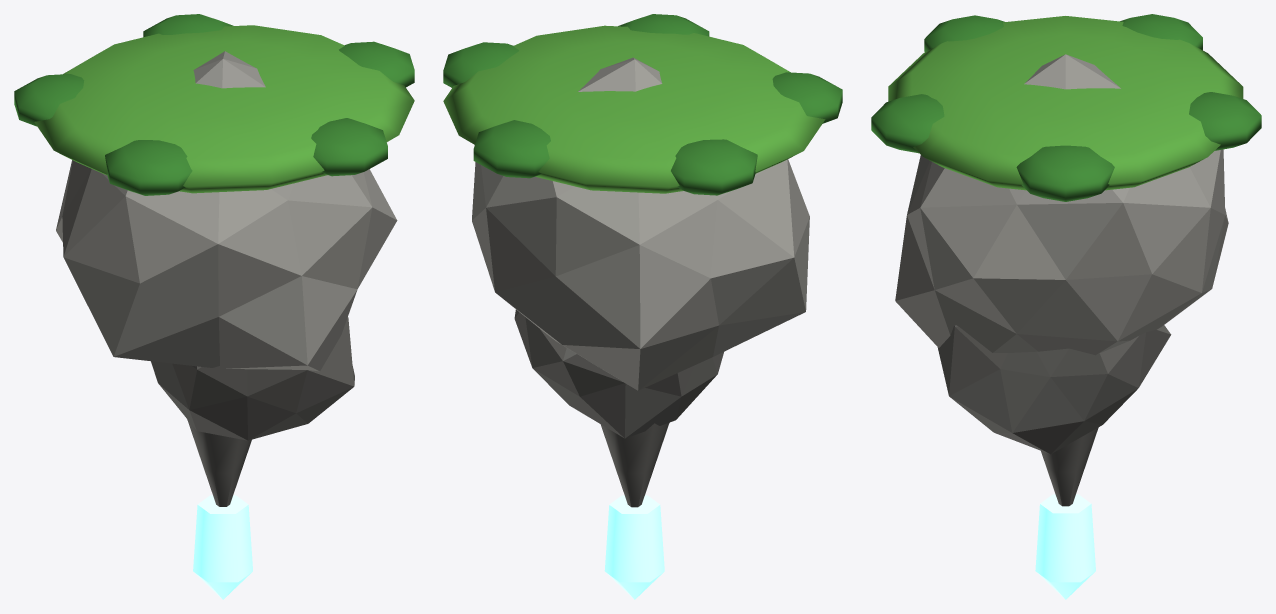
Rendered from FloatingRock.glb.
3 views of the same model, side by side, from view 1: azimuth 30°, elevation 25°; view 2: azimuth 150°, elevation 25°; view 3: azimuth 270°, elevation 25° (orthographic).
Parts seen in each view (by area): view 1: HoverRock, HoverGlow; view 2: HoverRock, HoverGlow; view 3: HoverRock, HoverGlow.
Boxes of the visible parts, <box> form: HoverRock: <box>14,14,414,506</box>; HoverGlow: <box>193,495,252,599</box>; HoverRock: <box>443,14,842,507</box>; HoverGlow: <box>604,495,664,599</box>; HoverRock: <box>871,14,1261,506</box>; HoverGlow: <box>1035,494,1095,599</box>.
Bounding box in the file's own units: 5.47 × 7.94 × 5.15.
Materials: 2 (1 with a texture image).
